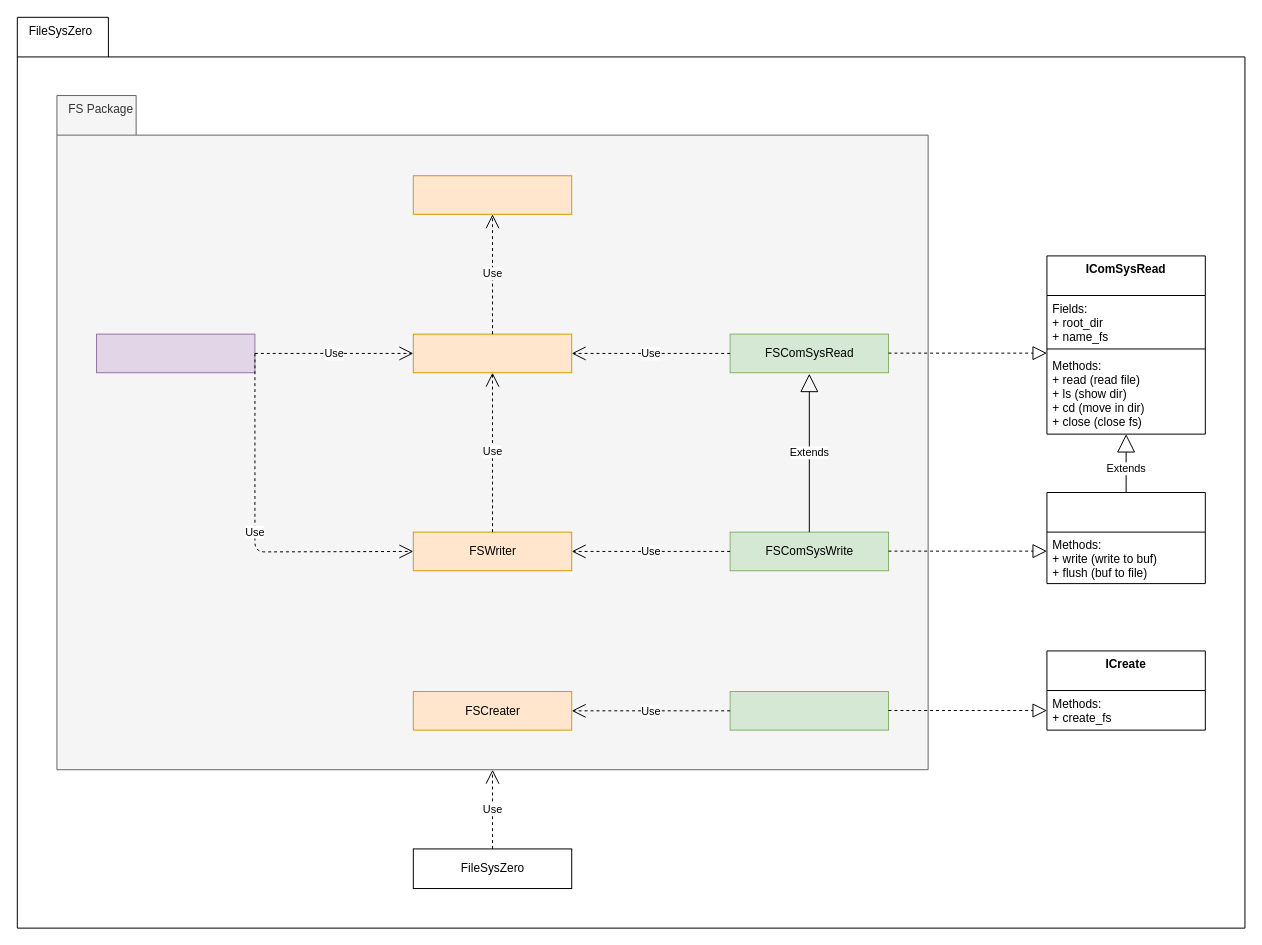
The diagram is 1262 pixels wide and 945 high, and some of its shapes have lost their labels. The shapes that lost their labels are listed below. From the top down, each one's box as (x1, y1, x2, y2) in pixels, then its label:
(412, 175, 572, 214): FSObject
(96, 333, 255, 373): FSComSysGod
(412, 333, 572, 373): FSReader
(1046, 492, 1205, 584): IComSysWrite
(729, 691, 889, 730): FSCreate
